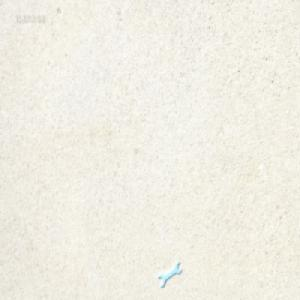Wrench: (158, 257, 183, 284)
